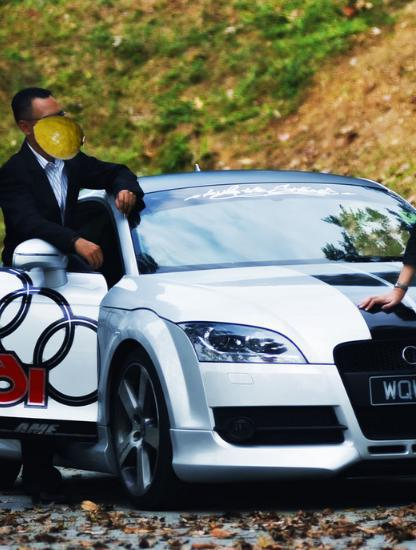Guava: (32, 111, 84, 163)
